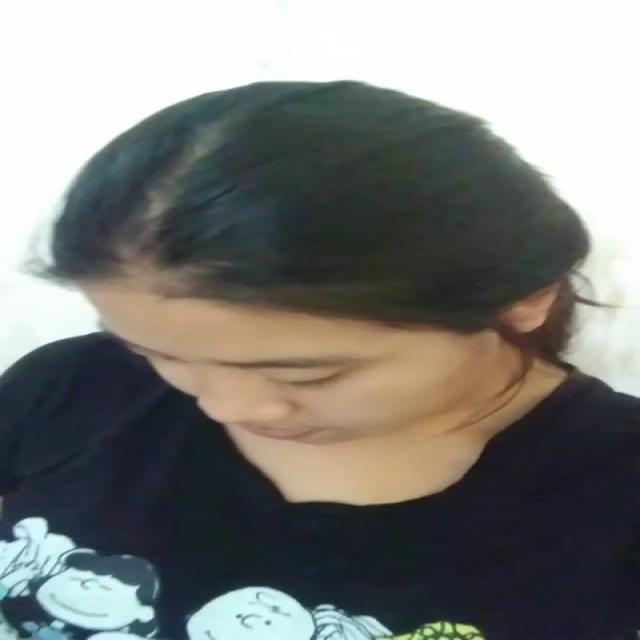9_cabeza_baja: (53, 80, 589, 445)
